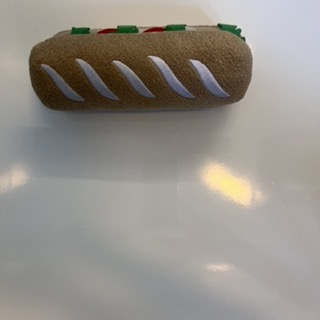sandwich: (29, 24, 253, 107)
